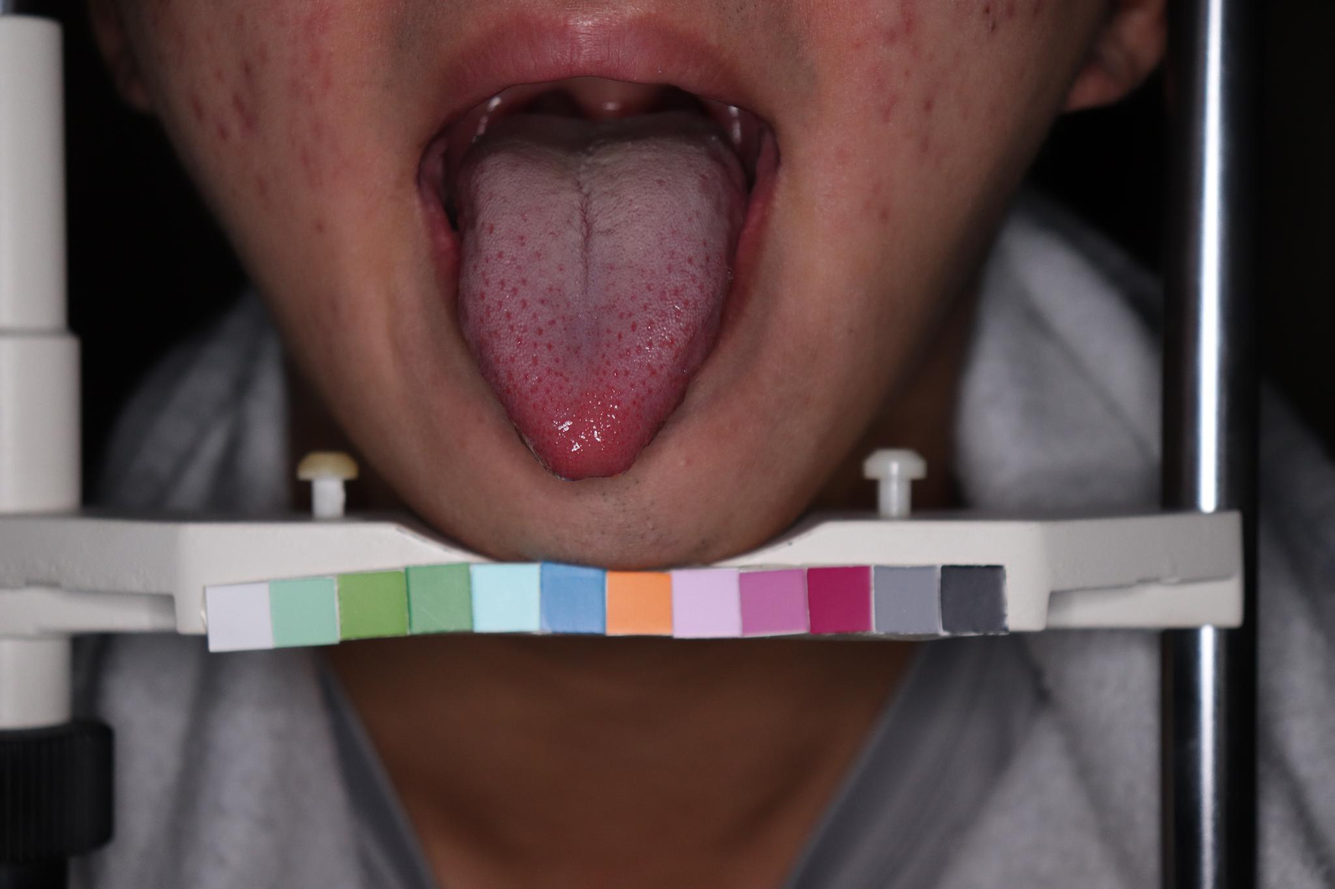baitaishe: (453, 110, 747, 477)
hongdianshe: (627, 377, 638, 390), (615, 329, 624, 343), (610, 367, 620, 379), (536, 324, 545, 337), (503, 309, 512, 322), (514, 335, 524, 346), (645, 338, 654, 350), (544, 340, 553, 351), (535, 373, 543, 384), (487, 222, 495, 233), (686, 255, 694, 264), (531, 338, 538, 348), (614, 400, 621, 410), (524, 371, 530, 382), (553, 354, 560, 363), (630, 397, 637, 405), (553, 369, 559, 377)
hongshe: (453, 109, 747, 477)
liewenshe: (572, 177, 593, 297)
